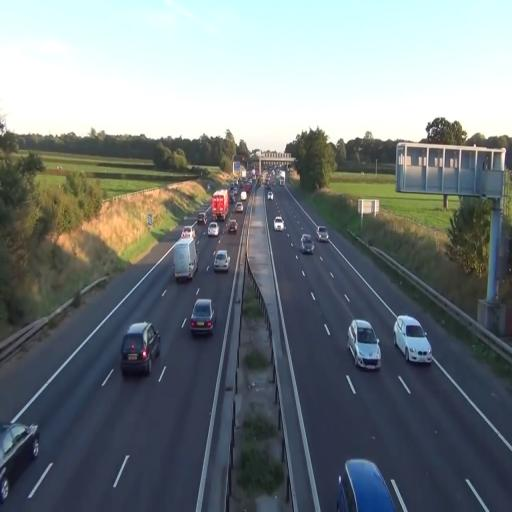vehicle: (338, 458, 408, 512), (0, 420, 40, 504), (121, 320, 160, 376), (347, 318, 382, 372), (394, 316, 432, 364), (172, 237, 198, 283), (190, 298, 216, 334), (212, 191, 229, 221), (214, 250, 230, 273), (301, 232, 315, 254), (273, 215, 285, 232), (208, 222, 220, 237), (226, 219, 237, 235), (317, 228, 329, 242)
